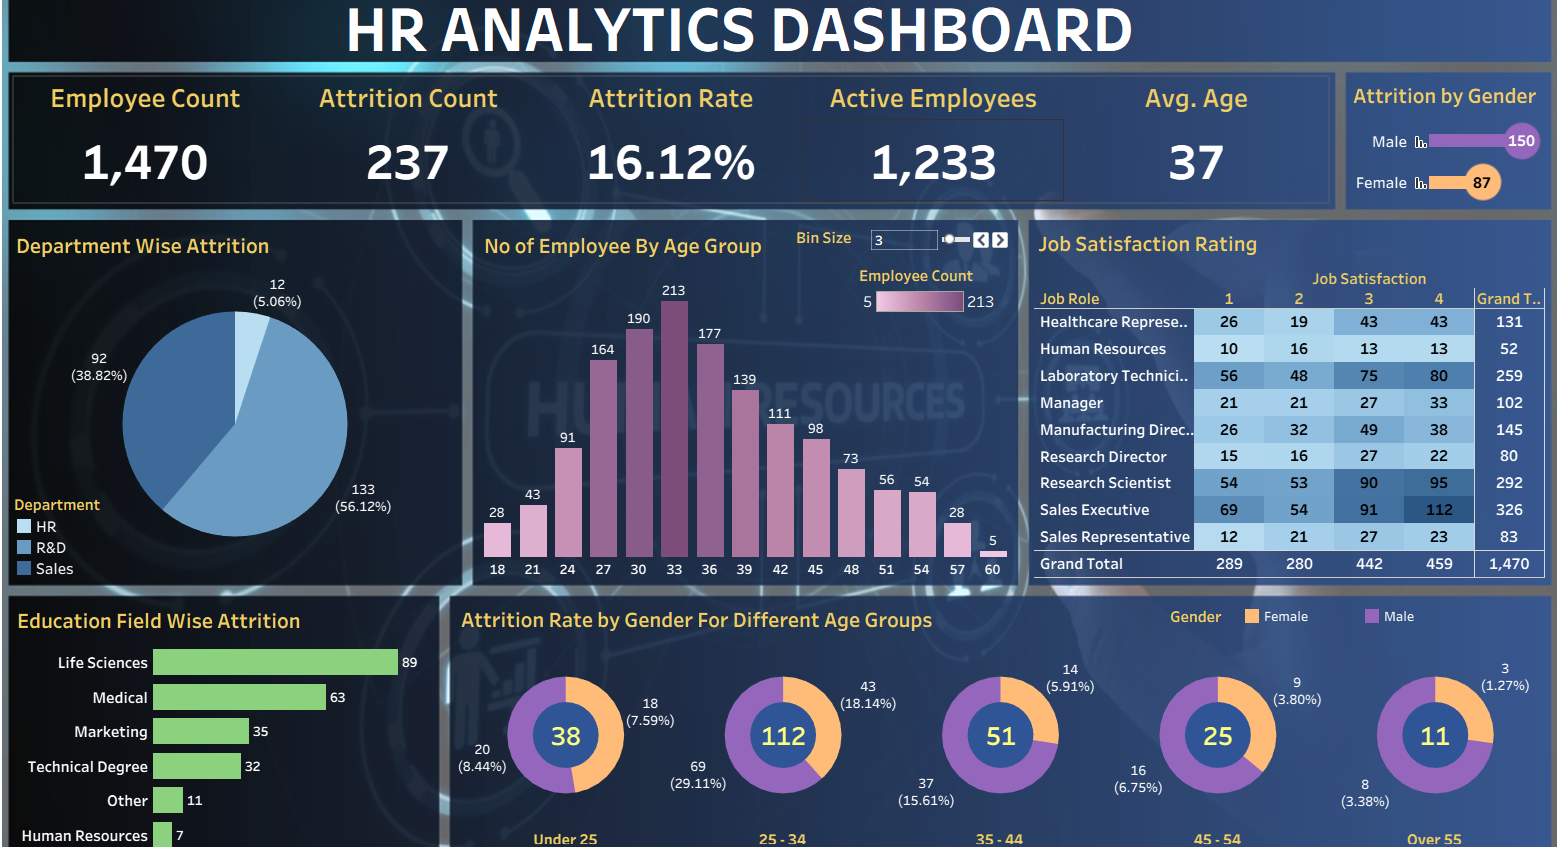

What the dashboard file says about the page in this screenshot:
{"tool":"tableau","page":{"name":"HR Analytics DashBoard","canvas":[1580,900],"ordinal":0},"visuals":[{"type":"image","param":"D:/DA-Projects/HR_Analaytics-Twb/HR background.pptx.png","box":[8,8,1564,884]},{"type":"text","box":[351,20,846,61]},{"type":"worksheet","title":"KPI","mark":"Automatic","box":[24,101,1314,125]},{"type":"worksheet","title":"Attrition by Gender","mark":"Automatic","rows":["Gender"],"cols":["Calculation_0772168567066624","Calculation_0772168567066624"],"box":[1360,101,194,126]},{"type":"worksheet","title":"Job Satisfaction Rating","mark":"Square","rows":["Job Role"],"cols":["Job Satisfaction"],"box":[1044,249,511,353]},{"type":"worksheet","title":"Department Wise Attrition","mark":"Pie","box":[22,251,446,351]},{"type":"worksheet","title":"No of Employee By Age Group","mark":"Automatic","rows":["Employee Count"],"cols":["Age (bin)"],"box":[490,251,531,352]},{"type":"parameter","param":"[Parameters].[Parameter 1162770458447873]","box":[806,251,215,31]},{"type":"legend","title":"No of Employee By Age Group","param":"[federated.0sngfkv07h4e5512cb4ay0rpfh3t].[sum:Employee Count:qk]","box":[869,289,140,55]},{"type":"legend","title":"Department Wise Attrition","param":"[federated.0sngfkv07h4e5512cb4ay0rpfh3t].[none:Department:nk]","box":[24,518,89,86]},{"type":"worksheet","title":"Attrition Rate by Gender For Different Age Groups","mark":"Pie","rows":["Calculation_0158092369293316","Calculation_0158092369293316"],"cols":["CF_age band"],"box":[467,625,1087,250]},{"type":"worksheet","title":"Education Field Wise Attrition","mark":"Automatic","rows":["Education Field"],"cols":["Calculation_0772168567066624"],"box":[23,626,423,250]},{"type":"legend","title":"Attrition Rate by Gender For Different Age Groups","param":"[federated.0sngfkv07h4e5512cb4ay0rpfh3t].[none:Gender:nk]","box":[1180,630,377,25]}]}

Visuals, with their boxes on the page's 1580x900 design canvas (x1, y1, x2, y2). These are canvas units, not pixel positions in the 1557x847 screenshot, which may show the page scaled, cropped or inside an application window:
image: box=[8, 8, 1572, 892]
text: box=[351, 20, 1197, 81]
"KPI" worksheet: box=[24, 101, 1338, 226]
"Attrition by Gender" worksheet: box=[1360, 101, 1554, 227]
"Job Satisfaction Rating" worksheet (Square marks): box=[1044, 249, 1555, 602]
"Department Wise Attrition" worksheet (Pie marks): box=[22, 251, 468, 602]
"No of Employee By Age Group" worksheet: box=[490, 251, 1021, 603]
parameter: box=[806, 251, 1021, 282]
"No of Employee By Age Group" legend: box=[869, 289, 1009, 344]
"Department Wise Attrition" legend: box=[24, 518, 113, 604]
"Attrition Rate by Gender For Different Age Groups" worksheet (Pie marks): box=[467, 625, 1554, 875]
"Education Field Wise Attrition" worksheet: box=[23, 626, 446, 876]
"Attrition Rate by Gender For Different Age Groups" legend: box=[1180, 630, 1557, 655]
